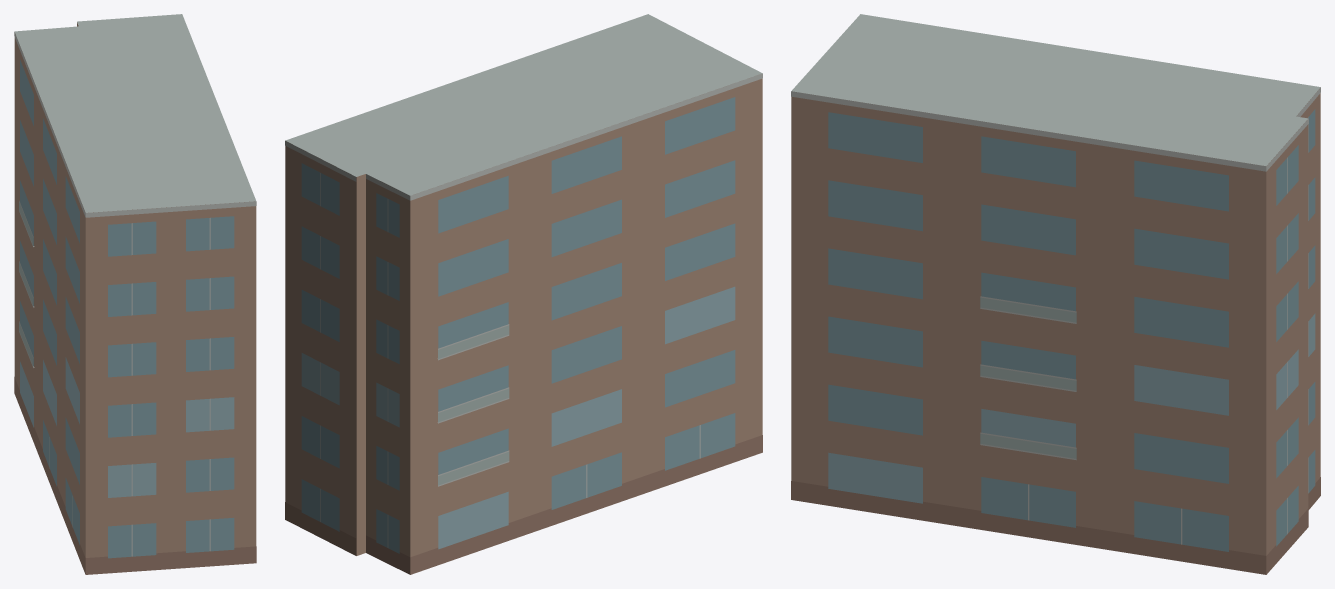
File: survey-upis-32566699.glb
3 views of the same model, side by side, from view 1: azimuth 30°, elevation 25°; view 2: azimuth 150°, elevation 25°; view 3: azimuth 270°, elevation 25° (orthographic). The views are drawn at different scales.
Parts seen in each view (by area): view 1: survey-upis-32566699.tmp; view 2: survey-upis-32566699.tmp; view 3: survey-upis-32566699.tmp.
Part boxes in pixels (left/top/right/bottom): survey-upis-32566699.tmp: left=14, top=14, right=256, bottom=574; survey-upis-32566699.tmp: left=285, top=14, right=762, bottom=574; survey-upis-32566699.tmp: left=791, top=14, right=1320, bottom=574.
Bounding box in the file's own units: 14.63 × 18.3 × 21.51.
